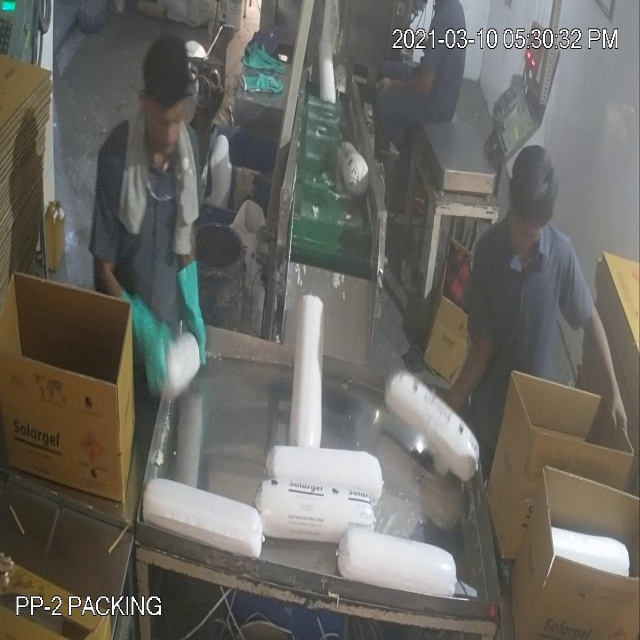Guantes: (168, 245, 216, 377)
Sin_guantes: (424, 301, 503, 449), (570, 288, 631, 448), (371, 62, 443, 123)
